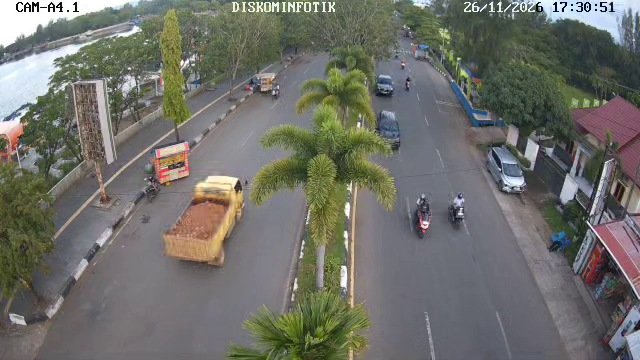Gerobak: (152, 140, 191, 186)
